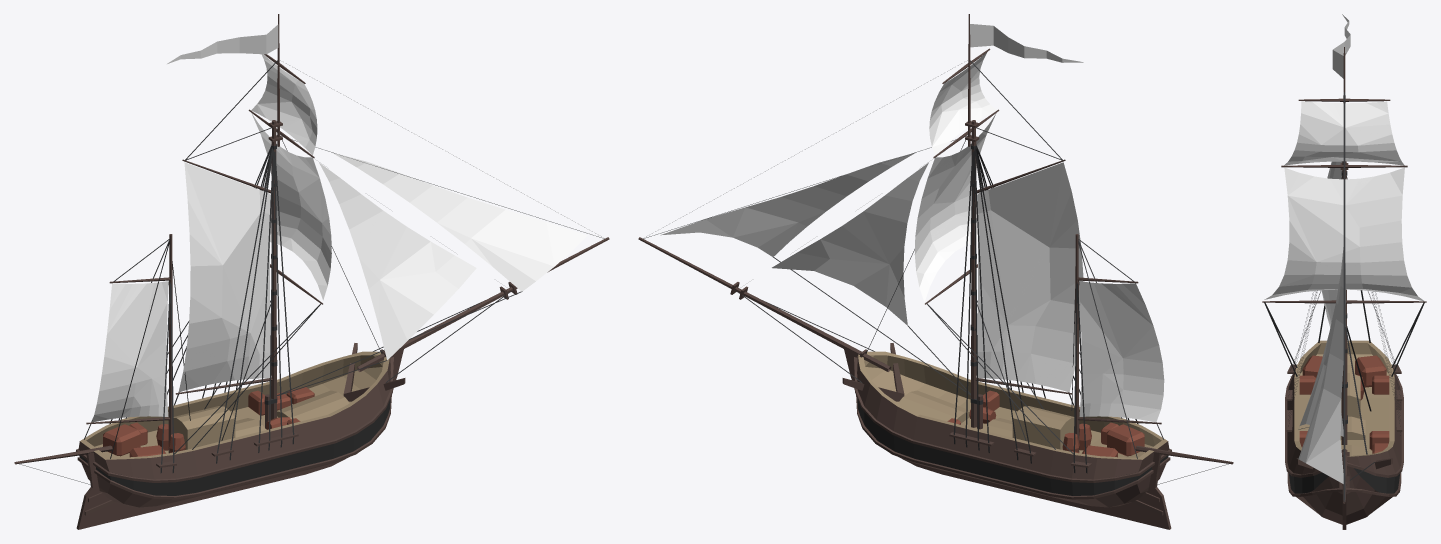
The model's file is Schooner.fbx.
The picture shows the model from 3 angles, left to right: view 1: azimuth 30°, elevation 25°; view 2: azimuth 150°, elevation 25°; view 3: azimuth 270°, elevation 25°; orthographic projection. The views are drawn at different scales.
Visible parts, largest first — view 1: model_0.006; view 2: model_0.006; view 3: model_0.006.
Part boxes in pixels (bbox=[...]): model_0.006: bbox=[14, 14, 609, 529]; model_0.006: bbox=[638, 14, 1233, 529]; model_0.006: bbox=[1262, 14, 1426, 529].
Bounding box in the file's own units: 53938 × 40418 × 13225.
